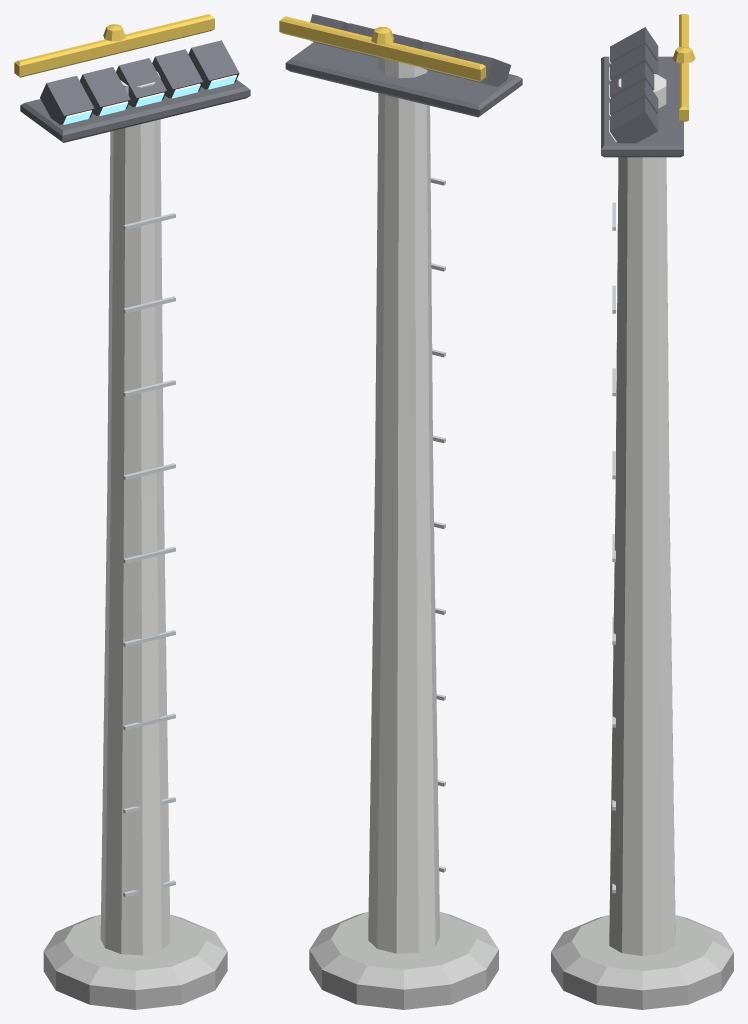
Rendered from apronlight.glb.
3 views of the same model, side by side, from view 1: azimuth 30°, elevation 25°; view 2: azimuth 150°, elevation 25°; view 3: azimuth 270°, elevation 25° (orthographic). The views are drawn at different scales.
Parts seen in each view (by area): view 1: apron-floodlight-mast; view 2: apron-floodlight-mast; view 3: apron-floodlight-mast.
Part boxes in pixels (bbox=[...]): apron-floodlight-mast: bbox=[14, 14, 250, 1009]; apron-floodlight-mast: bbox=[279, 14, 522, 1009]; apron-floodlight-mast: bbox=[551, 14, 733, 1009].
Size of the model in its own units: 2.7 by 12.26 by 2.2.
